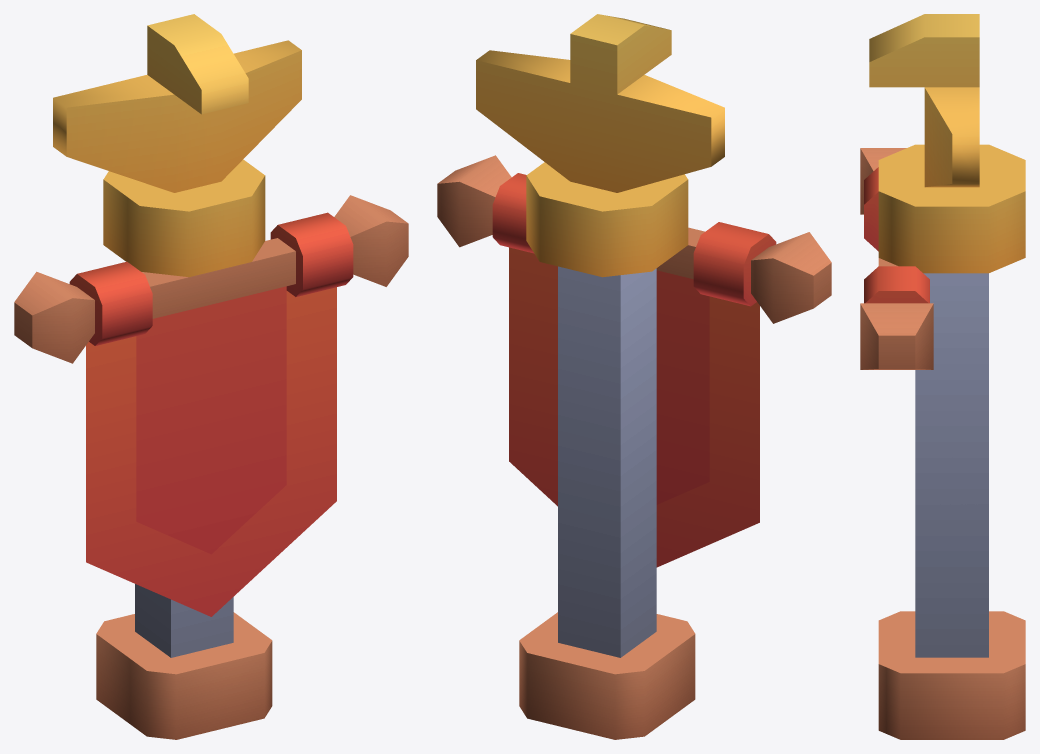
Rendered from prop_banner_arena.glb.
3 views of the same model, side by side, from view 1: azimuth 30°, elevation 25°; view 2: azimuth 150°, elevation 25°; view 3: azimuth 270°, elevation 25° (orthographic).
Visible parts, largest first — view 1: banner; view 2: banner; view 3: banner.
Part boxes in pixels (x1,y1,x2,y2): banner: (14,14,408,739); banner: (437,14,831,739); banner: (860,14,1025,739).
Bounding box in the file's own units: 0.6 × 1.02 × 0.225.
1 material, 1 textured.
